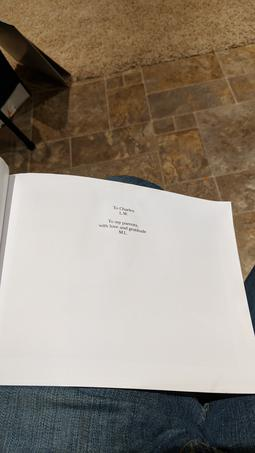text block: (90, 200, 161, 241)
